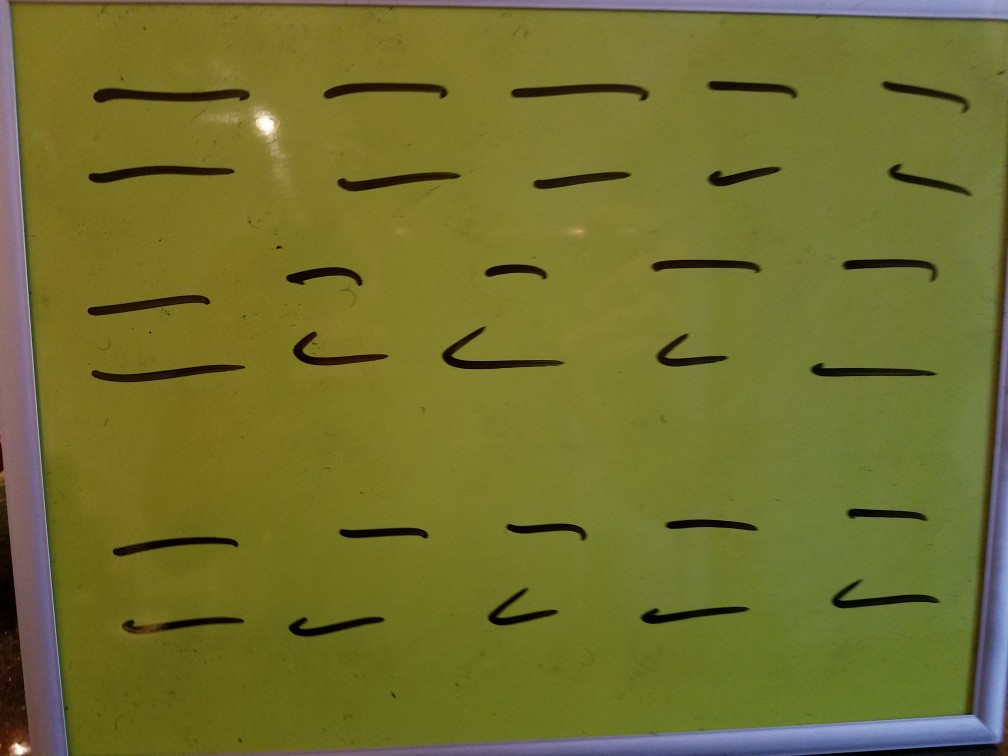=: (254, 488, 438, 657), (792, 463, 960, 639), (794, 240, 956, 407), (618, 230, 787, 388), (69, 268, 263, 405), (418, 239, 589, 392), (618, 476, 771, 645), (99, 505, 265, 651), (58, 71, 256, 191), (834, 64, 991, 212), (299, 69, 469, 204), (493, 64, 658, 199), (466, 493, 607, 648), (677, 64, 813, 200), (273, 252, 409, 383)
